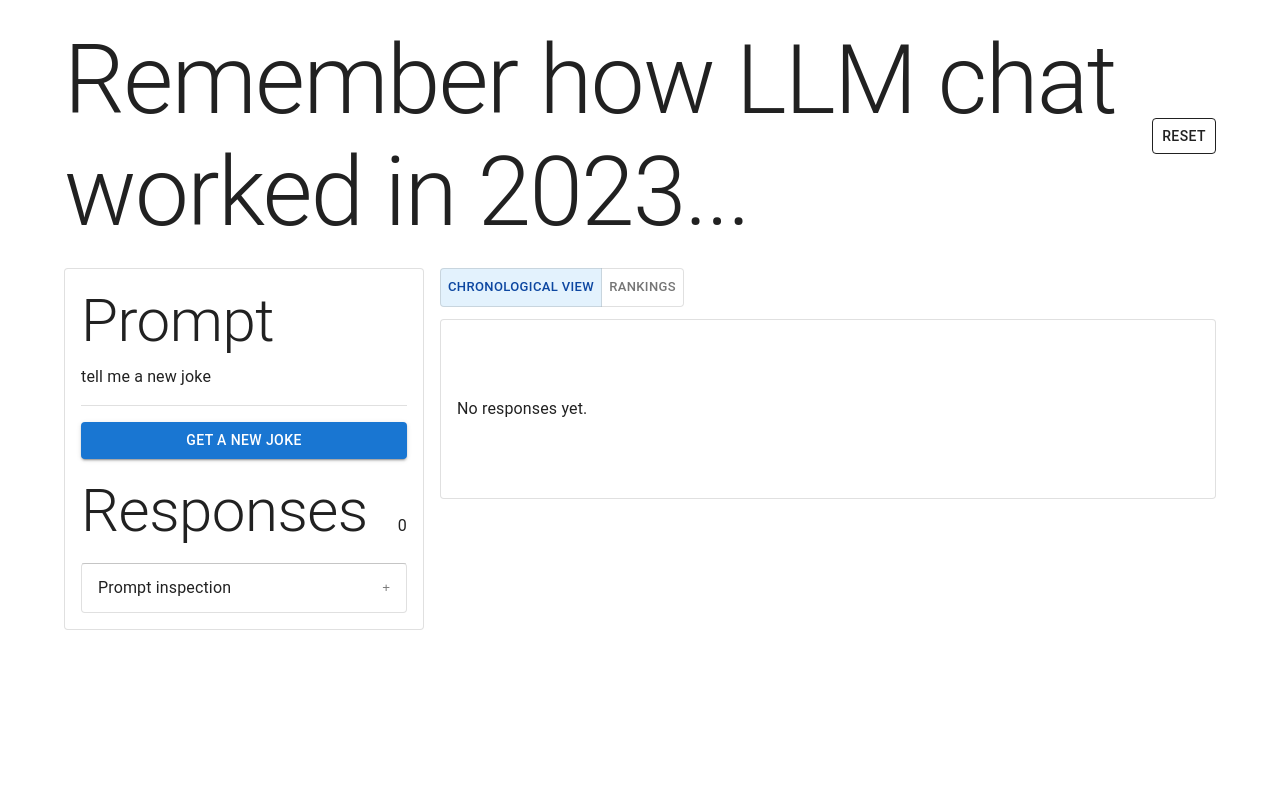
Test: Joker MVP › locks previous feedback and sends it with the next joke request
This screenshot has width=1280, height=800.
Click the button "Get a new joke": (244, 440) [81,422,407,459]
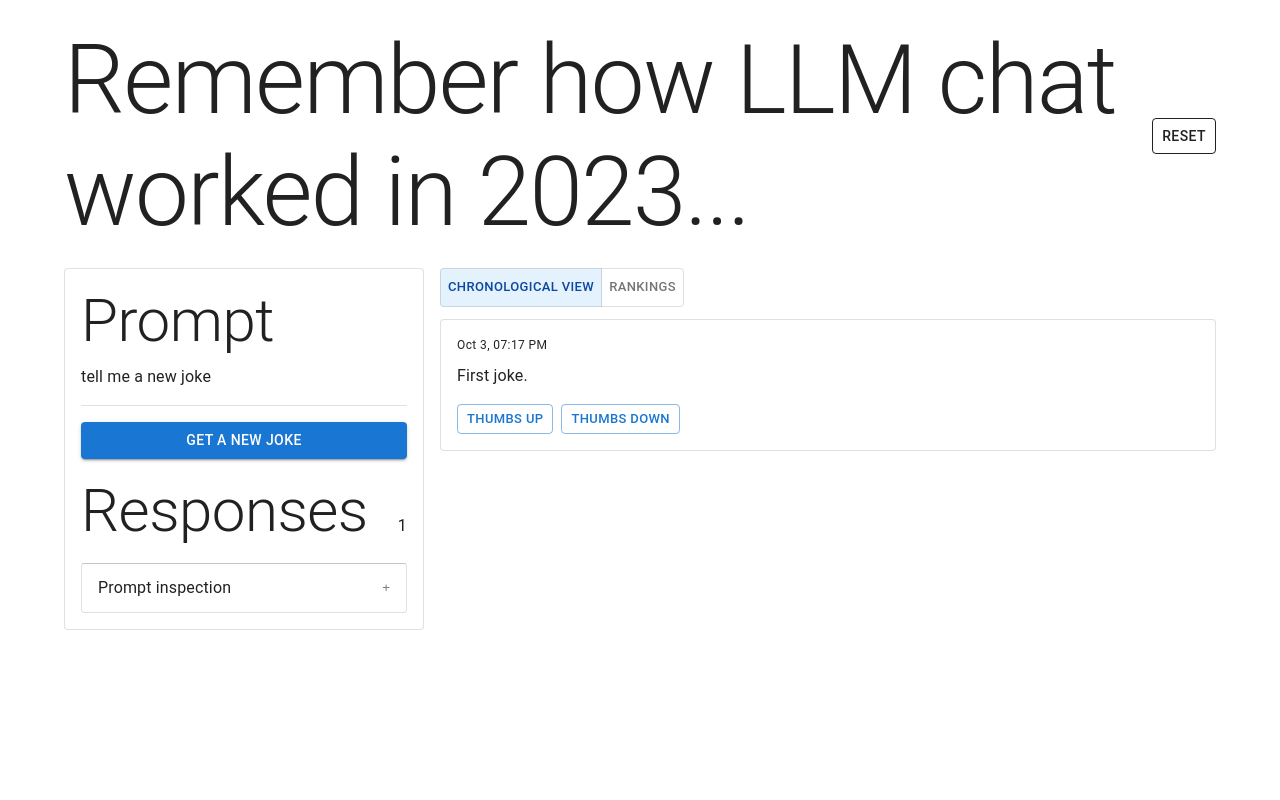
Expected: the text "First joke." is shown, [457,366,528,385]
Click the button "Thumbs up": (505, 419) [457,404,553,434]
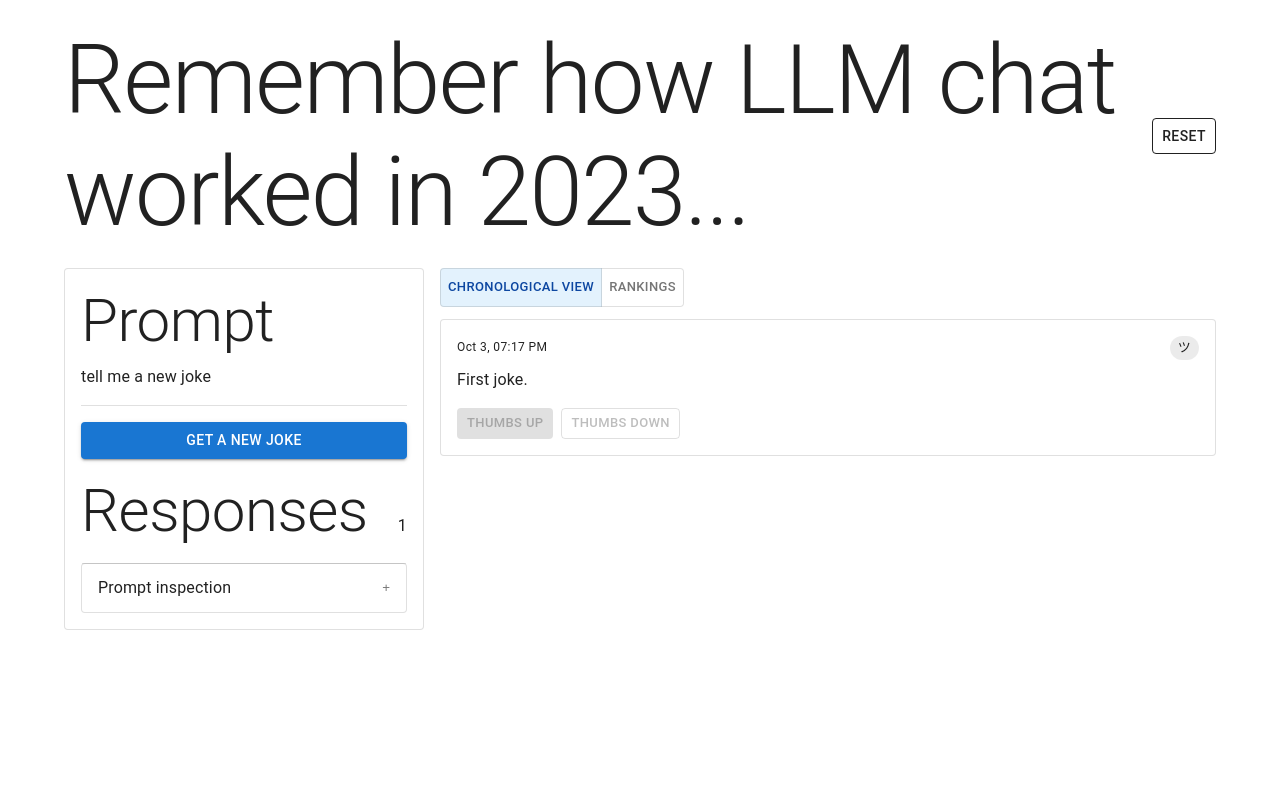
Expected: the text "ツ" is shown, [1178,340,1191,355]
Expected: the button "Thumbs up" is disabled, [457,408,553,439]
Expected: the button "Thumbs down" is disabled, [561,408,680,439]
Click the button "Get a new joke": (244, 440) [81,422,407,459]
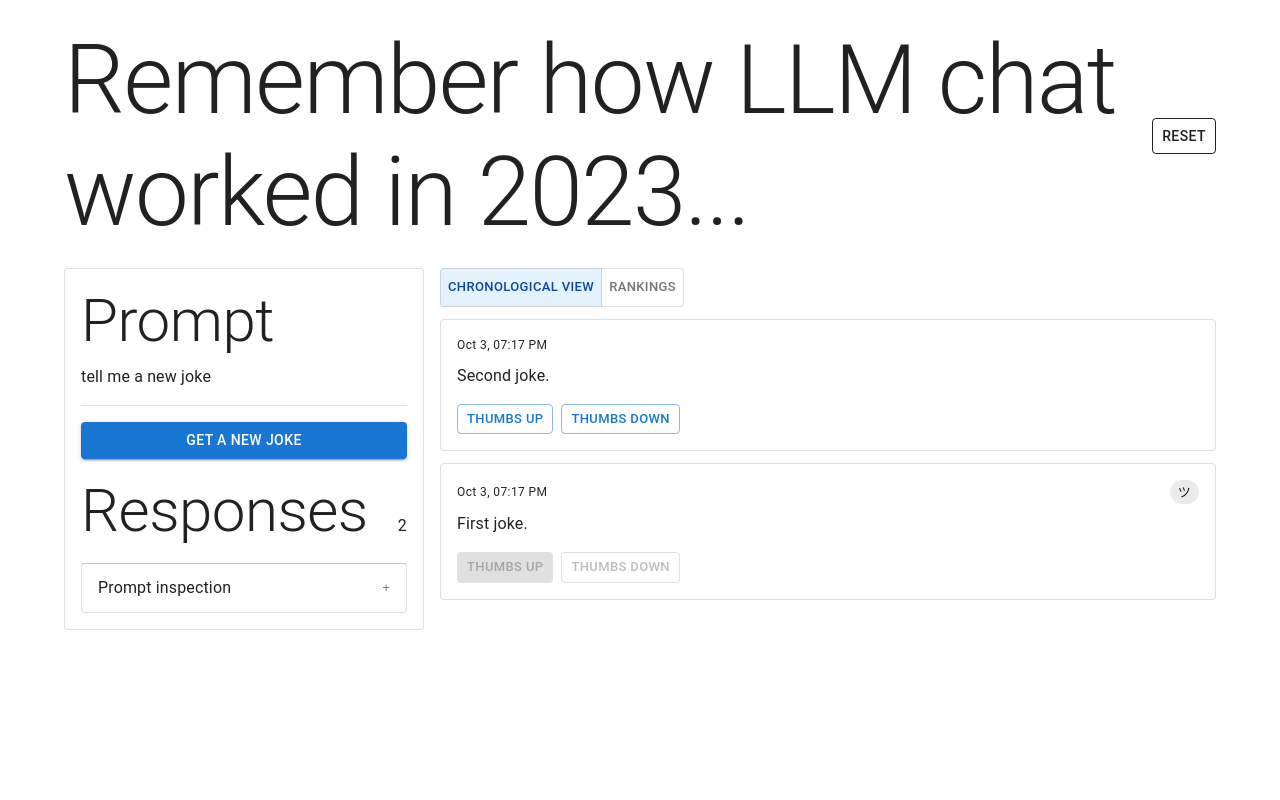
Expected: the text "Second joke." is shown, [457,366,550,385]
